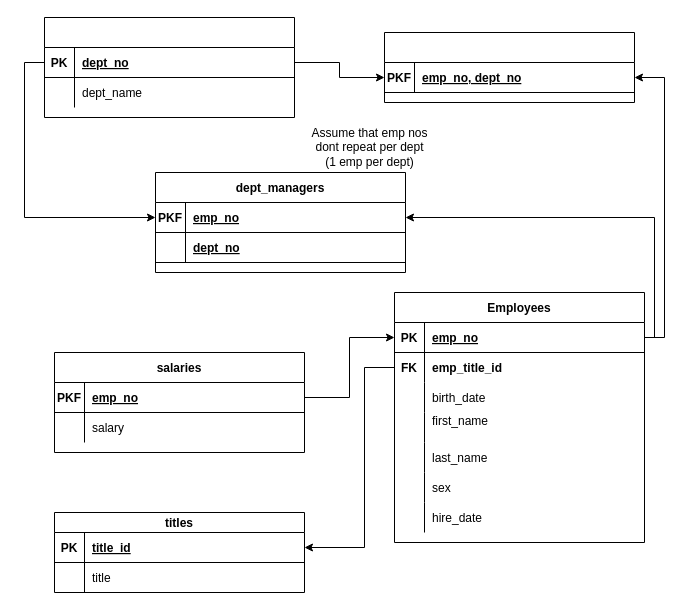
Image size: 690x610. Some labels were removed from this diagram. Here are the shapes that lost their labels. From the top down, the box of each, then its label:
(44, 16, 294, 118): Departments
(384, 32, 634, 102): dept_emp
